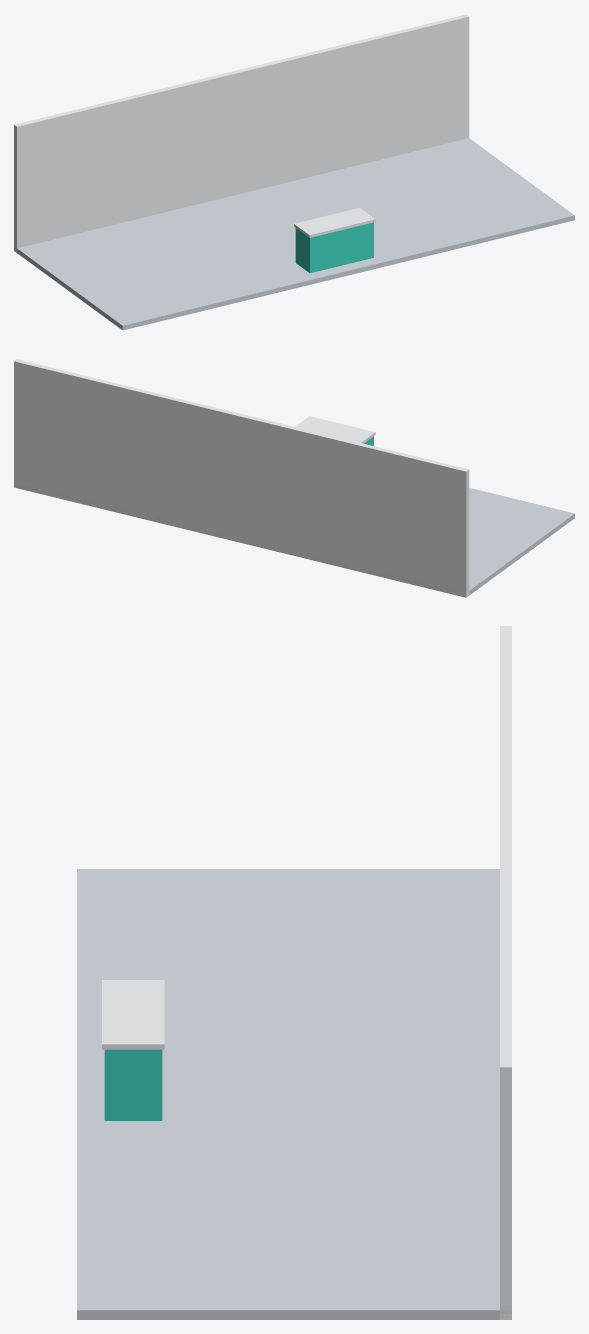
3 renders of one model, top to bottom at view 1: azimuth 30°, elevation 25°; view 2: azimuth 150°, elevation 25°; view 3: azimuth 270°, elevation 25°, orthographic. The views are drawn at different scales.
Visible parts, largest first — view 1: Exhibition Booth Concept; view 2: Exhibition Booth Concept; view 3: Exhibition Booth Concept.
Boxes of the visible parts, x1,y1,x2,y2 form: Exhibition Booth Concept: (14,14,574,330); Exhibition Booth Concept: (14,359,574,597); Exhibition Booth Concept: (77,626,511,1319).
Bounding box in the file's own units: 12 × 3.2 × 5.
